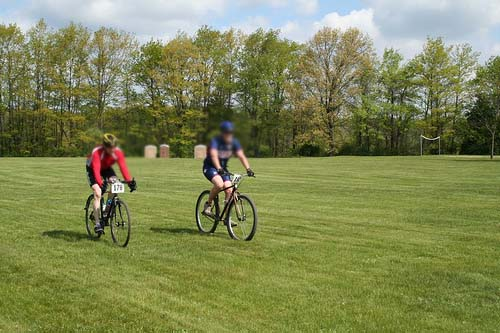bicycle: (187, 166, 263, 244), (78, 173, 140, 243)
